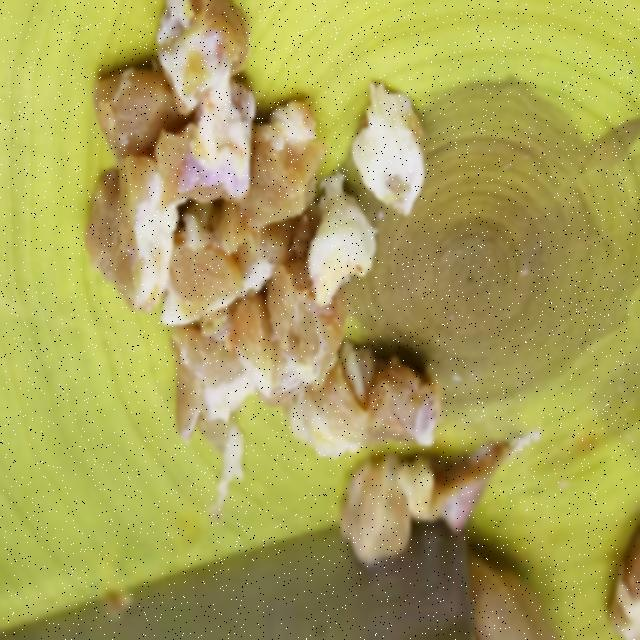pork: (328, 451, 518, 578), (288, 343, 444, 459), (85, 170, 174, 313), (362, 81, 440, 223), (162, 6, 257, 117), (243, 106, 322, 233), (185, 83, 256, 204), (163, 342, 240, 444), (95, 73, 176, 164), (277, 273, 348, 374), (309, 201, 375, 304), (225, 211, 288, 298), (222, 312, 275, 400), (183, 246, 243, 319)
